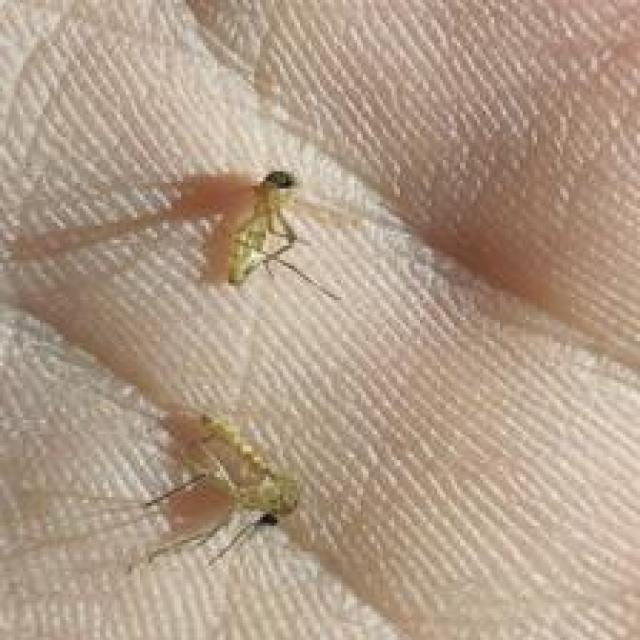Culex: (6, 166, 377, 303)
